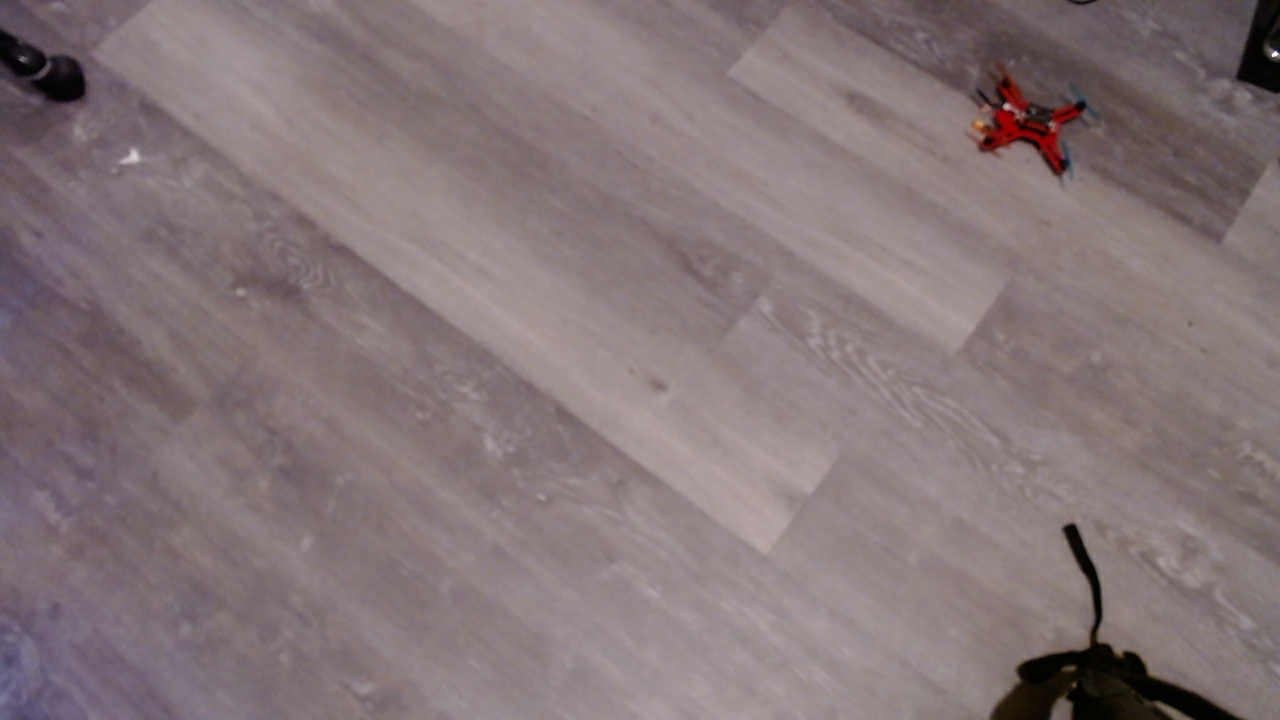crazyflie: (975, 78, 1102, 197)
